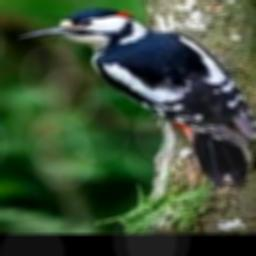Woodpecker: (19, 8, 256, 187)
